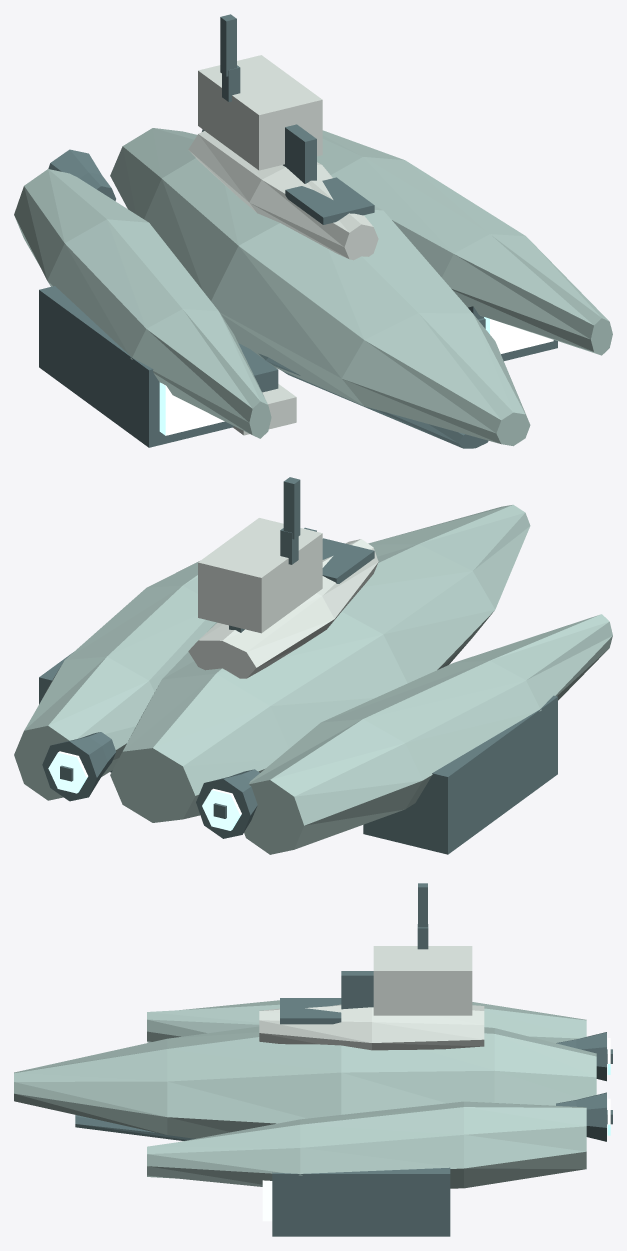
3 renders of one model, top to bottom at view 1: azimuth 30°, elevation 25°; view 2: azimuth 150°, elevation 25°; view 3: azimuth 270°, elevation 25°, orthographic. The views are drawn at different scales.
Size of the model in its own units: 15.48 by 11.62 by 24.26.
